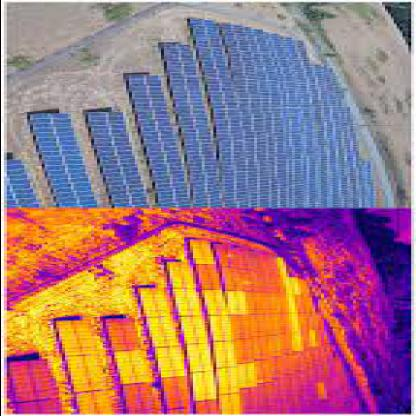Defects: (116, 349, 148, 384), (186, 239, 212, 265), (279, 300, 303, 316), (276, 276, 300, 292), (230, 292, 244, 314), (318, 380, 326, 404), (306, 329, 314, 349)
